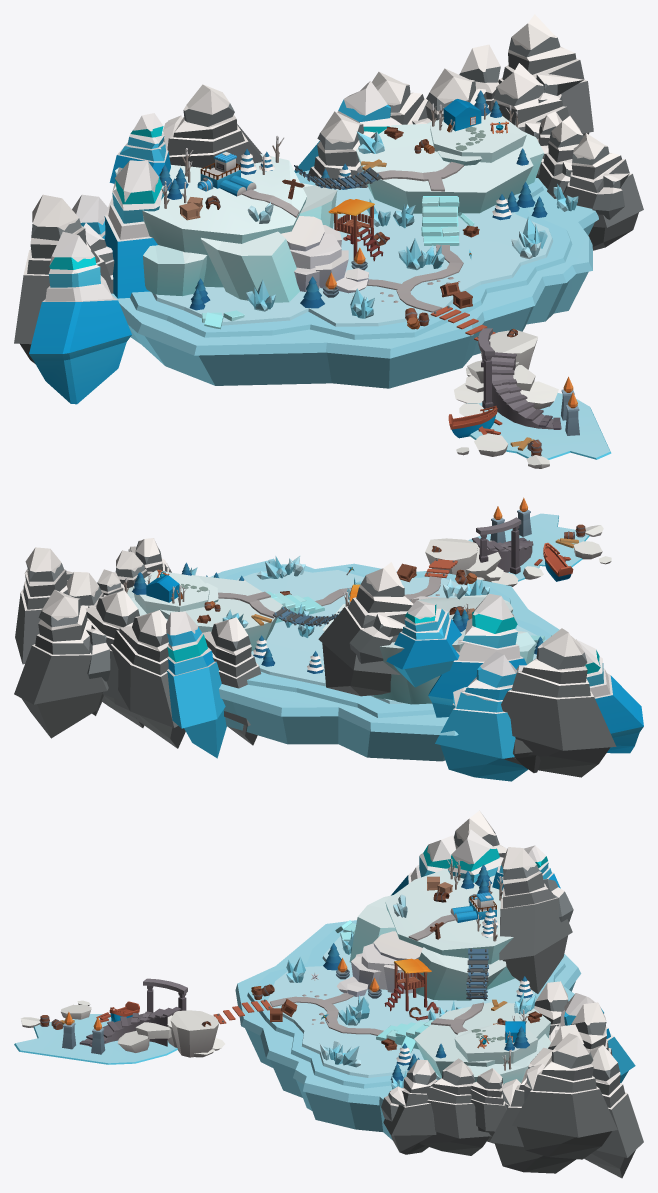
File: Winter.fbx
3 renders of one model, top to bottom at view 1: azimuth 30°, elevation 25°; view 2: azimuth 150°, elevation 25°; view 3: azimuth 270°, elevation 25°, orthographic. The views are drawn at different scales.
Visible parts, largest first — view 1: Ice_platform, Ice_platform3, Ice_platform2, Rocks2, Ice_location1, Ice_big_location1, Ice_location2, Ice_platform1, Rocks17, Rocks5, Rocks7, Rocks14 (+26 smaller); view 2: Rocks1, Rocks12, Rocks7, Rocks4, Ice_platform2, Ice_platform, Rocks9, Rocks10, Ice_platform3, Rocks5, Rocks6, Ice_platform1 (+22 smaller); view 3: Ice_platform, Rocks14, Rocks7, Ice_big_location1, Ice_platform2, Ice_location2, Rocks16, Ice_location1, Rocks12, Rocks17, Ice_small_platform, Ice_platform1 (+22 smaller).
Part boxes in pixels (bbox=[...]): Ice_platform: bbox=[152, 187, 552, 326]; Ice_platform3: bbox=[128, 222, 594, 388]; Ice_platform2: bbox=[111, 170, 598, 358]; Rocks2: bbox=[29, 231, 131, 404]; Ice_location1: bbox=[143, 183, 337, 302]; Ice_big_location1: bbox=[115, 153, 306, 287]; Ice_location2: bbox=[356, 120, 544, 213]; Ice_platform1: bbox=[130, 180, 572, 339]; Rocks17: bbox=[563, 133, 643, 250]; Rocks5: bbox=[104, 160, 164, 298]; Rocks7: bbox=[163, 84, 262, 168]; Rocks14: bbox=[498, 14, 593, 135]; Rocks1: bbox=[501, 628, 616, 777]; Rocks12: bbox=[14, 589, 110, 738]; Rocks7: bbox=[318, 562, 413, 696]; Rocks4: bbox=[435, 651, 527, 781]; Ice_platform2: bbox=[210, 560, 559, 735]; Ice_platform: bbox=[237, 570, 545, 703]; Rocks9: bbox=[166, 611, 226, 758]; Rocks10: bbox=[110, 610, 185, 748]; Ice_platform3: bbox=[222, 699, 445, 761]; Rocks5: bbox=[428, 593, 526, 717]; Rocks6: bbox=[386, 600, 461, 687]; Ice_platform1: bbox=[225, 565, 551, 717]; Ice_platform: bbox=[267, 934, 536, 1079]; Rocks14: bbox=[512, 1033, 617, 1159]; Rocks7: bbox=[499, 847, 573, 993]; Ice_big_location1: bbox=[385, 868, 514, 989]; Ice_platform2: bbox=[235, 920, 581, 1106]; Ice_location2: bbox=[414, 1002, 550, 1084]; Rocks16: bbox=[420, 1058, 491, 1155]; Ice_location1: bbox=[349, 895, 506, 1000]; Rocks12: bbox=[584, 1045, 643, 1178]; Rocks17: bbox=[381, 1059, 437, 1154]; Ice_small_platform: bbox=[14, 1014, 177, 1064]; Ice_platform1: bbox=[247, 926, 565, 1088].
Size of the model in its own units: 15632 by 5515 by 15940.
Materials: 1 (1 with a texture image).
